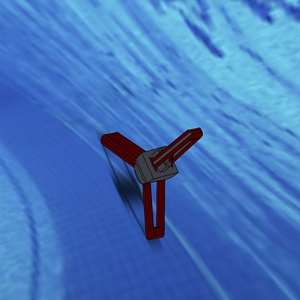submarine: (58, 76, 221, 264)
